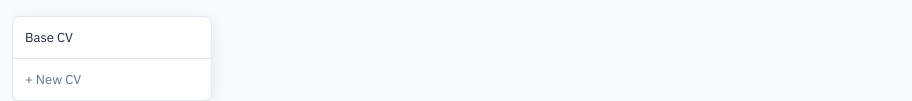
it: version load failures › (f) CVSwitcherDropdown toasts and closes when getVersion returns null
This screenshot has width=912, height=101.
(page scrolled)
Click the button "Base CV" at coordinates (112, 38), box left=13, top=21, right=211, bottom=54
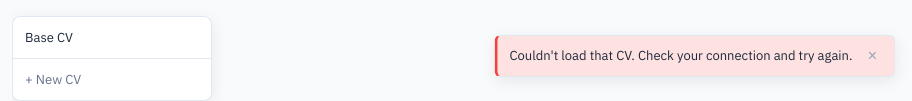
Check: the message shows "Couldn't load that CV. Check your connection and try again.", box left=510, top=47, right=852, bottom=64
